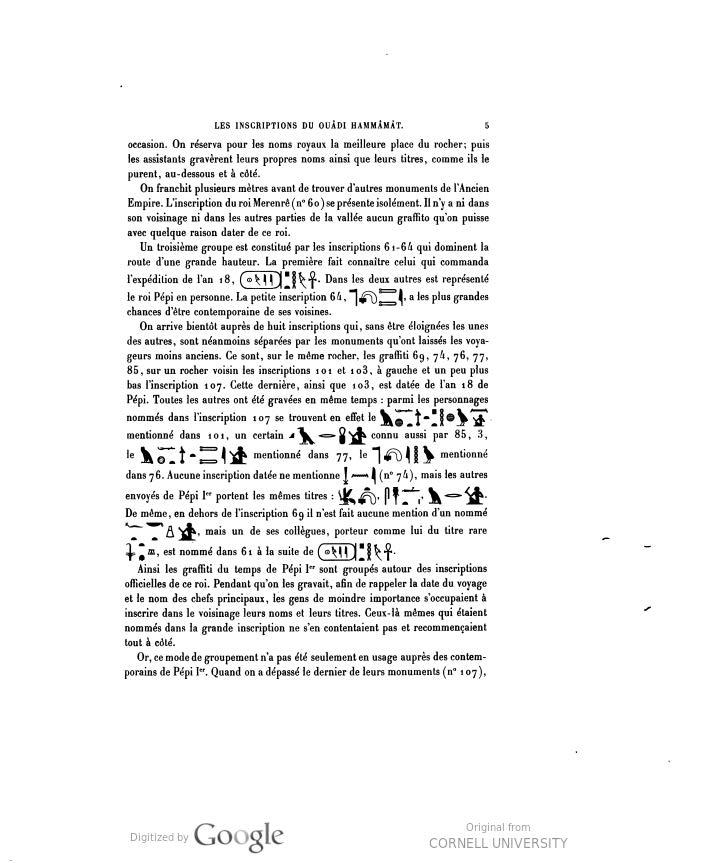circle: (313, 540, 361, 564), (238, 268, 285, 292)
